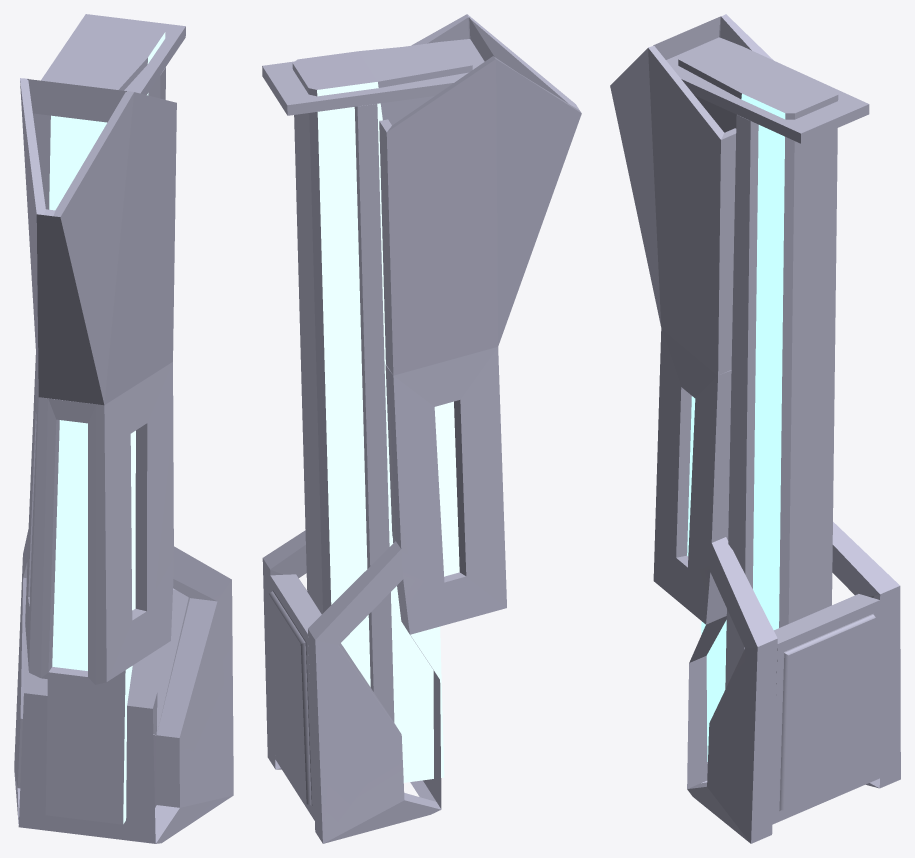
Rendered from mrakodrap4.fbx.
3 views of the same model, side by side, from view 1: azimuth 30°, elevation 25°; view 2: azimuth 150°, elevation 25°; view 3: azimuth 270°, elevation 25° (orthographic). The views are drawn at different scales.
Parts seen in each view (by area): view 1: Plane_Plane.001; view 2: Plane_Plane.001; view 3: Plane_Plane.001.
Boxes of the visible parts, x1,y1,x2,y2 form: Plane_Plane.001: [14, 14, 233, 843]; Plane_Plane.001: [262, 14, 581, 843]; Plane_Plane.001: [610, 14, 900, 843].
Bounding box in the file's own units: 236 × 663 × 240.
